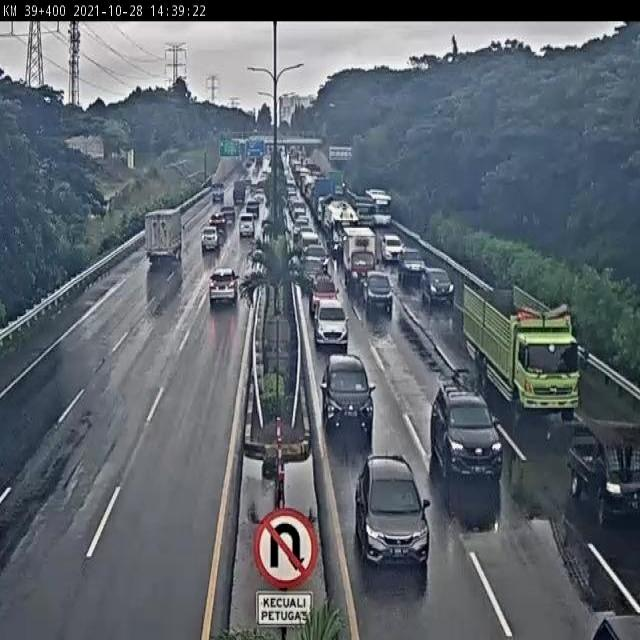Bus: (368, 186, 397, 226)
Car: (354, 453, 431, 571), (429, 378, 503, 488), (566, 418, 640, 526), (319, 351, 375, 441), (203, 263, 244, 313), (312, 296, 348, 349), (361, 269, 395, 319), (420, 267, 454, 309), (398, 250, 427, 287), (301, 257, 327, 293), (379, 232, 404, 262), (299, 228, 320, 254), (201, 226, 219, 251), (238, 212, 255, 238), (207, 212, 224, 234), (291, 202, 307, 223), (221, 205, 236, 225), (212, 184, 224, 203), (252, 190, 266, 205), (244, 160, 253, 170)
Truck: (459, 281, 583, 408), (141, 202, 182, 272), (325, 202, 361, 259), (344, 228, 377, 282), (312, 179, 341, 222)
